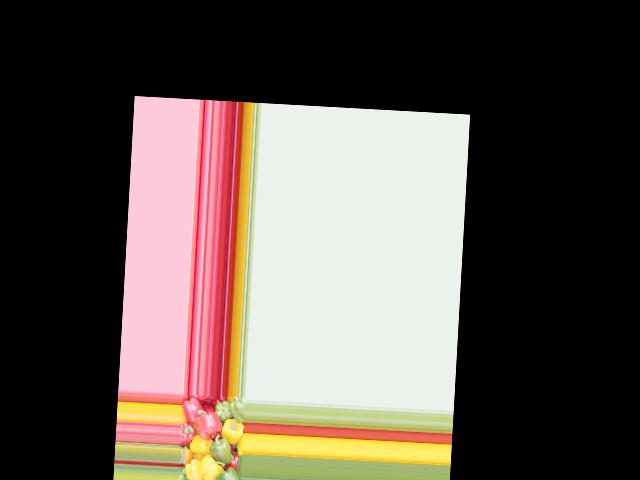bell_pepper: (177, 464, 189, 480)
